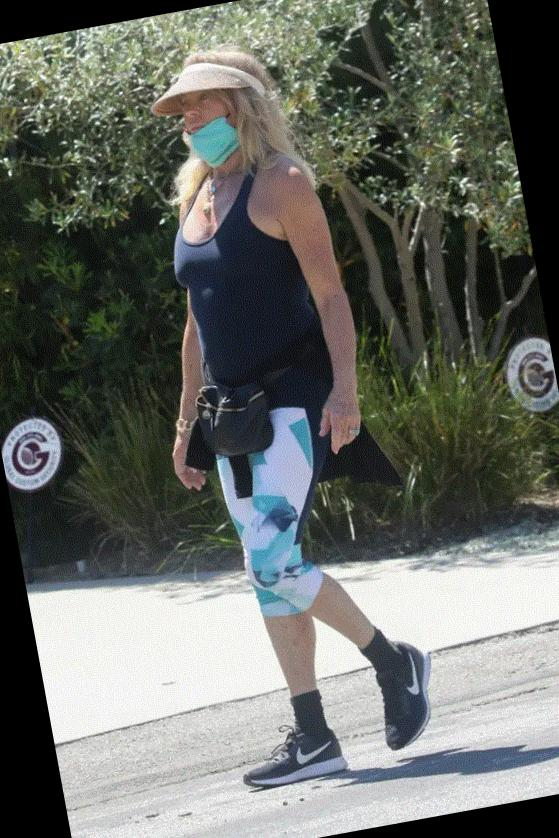mask_weared_incorrect: (172, 90, 232, 153)
